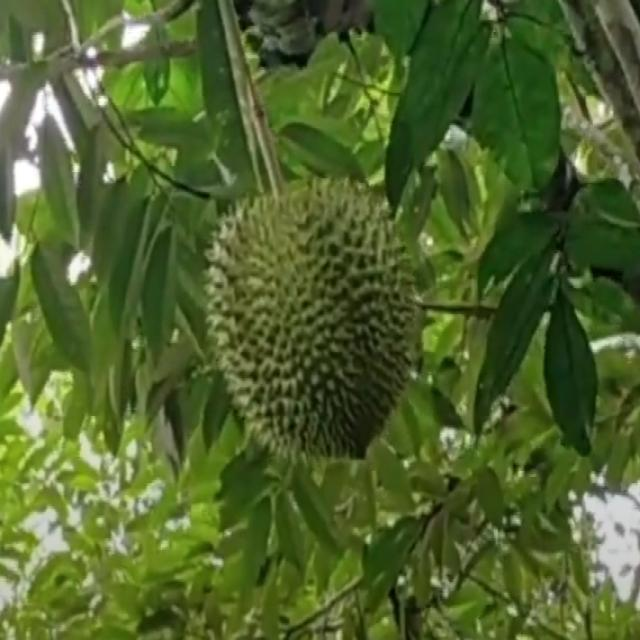immature: (208, 171, 417, 460)
